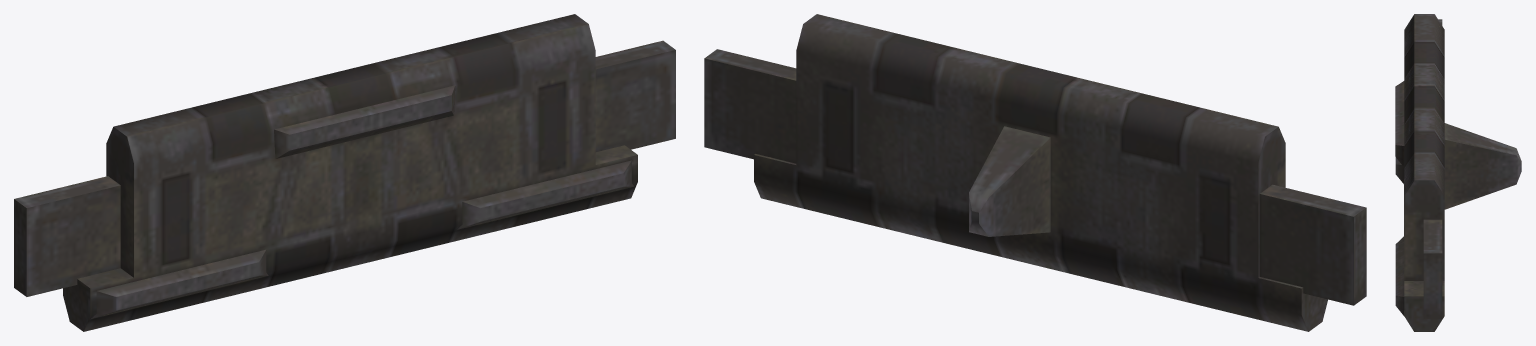
3 views of the same model, side by side, from view 1: azimuth 30°, elevation 25°; view 2: azimuth 150°, elevation 25°; view 3: azimuth 270°, elevation 25° (orthographic). The views are drawn at different scales.
Visible parts, largest first — view 1: set_0_group_0; view 2: set_0_group_0; view 3: set_0_group_0.
Part boxes in pixels (x1,y1,x2,y2): set_0_group_0: (14, 14, 675, 331); set_0_group_0: (704, 14, 1366, 331); set_0_group_0: (1395, 14, 1521, 331).
Bounding box in the file's own units: 0.85 × 0.2309 × 0.1937.
Materials: 1 (1 with a texture image).
